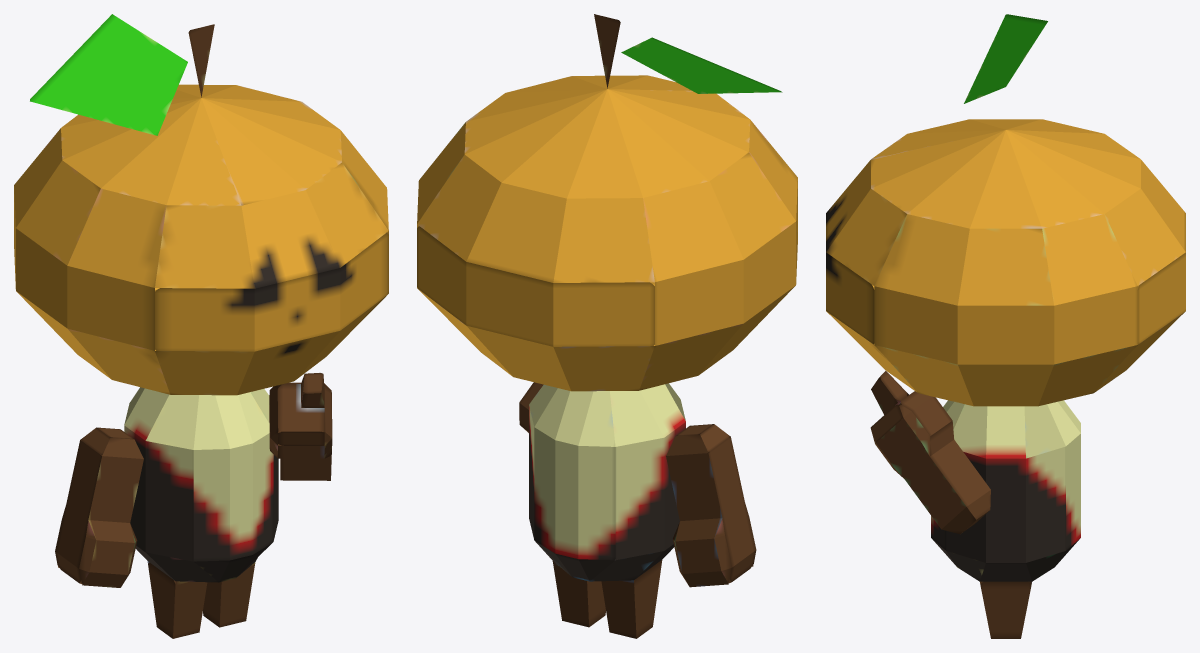
Rendered from pumpkin-boy.obj.
3 views of the same model, side by side, from view 1: azimuth 30°, elevation 25°; view 2: azimuth 150°, elevation 25°; view 3: azimuth 270°, elevation 25° (orthographic). The views are drawn at different scales.
Visible parts, largest first — view 1: beveled_cuboid; view 2: beveled_cuboid; view 3: beveled_cuboid.
Boxes of the visible parts, left/top/right/bottom form: beveled_cuboid: left=14, top=14, right=388, bottom=638; beveled_cuboid: left=417, top=14, right=797, bottom=638; beveled_cuboid: left=826, top=14, right=1185, bottom=638.
Size of the model in its own units: 0.5 by 0.875 by 0.5.
1 material, 1 textured.
